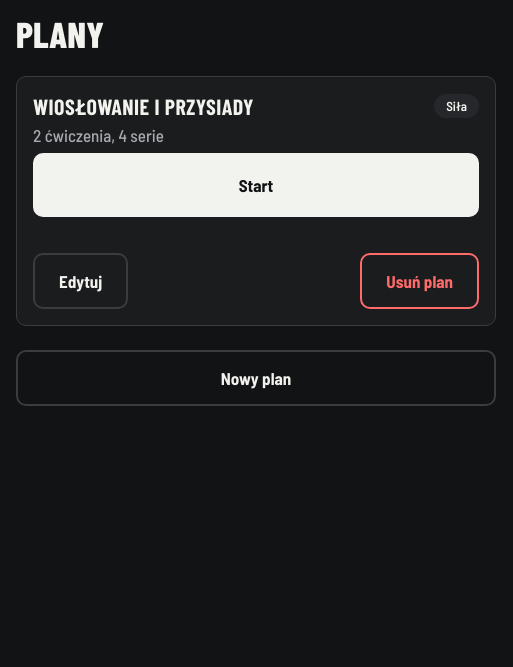
Test: "Zakończ trening" › is also on the rest view, with "Gotowy, zaczynam" as the only primary button
Click the button "Start" at (256, 185), box [33, 153, 479, 217]
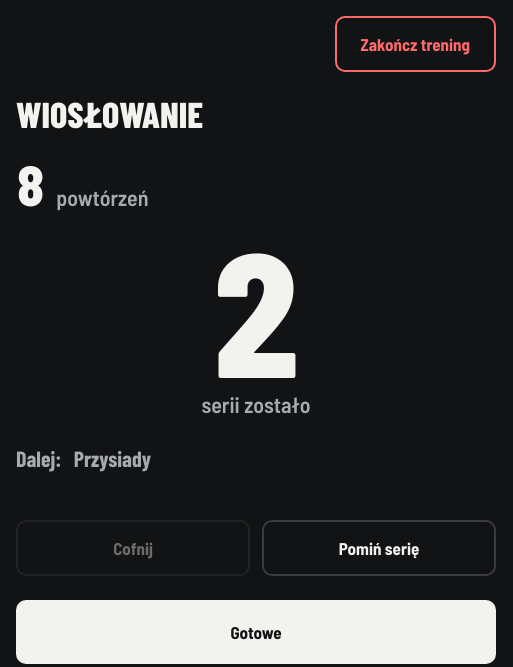
Click the button "Gotowe" at (256, 632), box [16, 600, 496, 664]
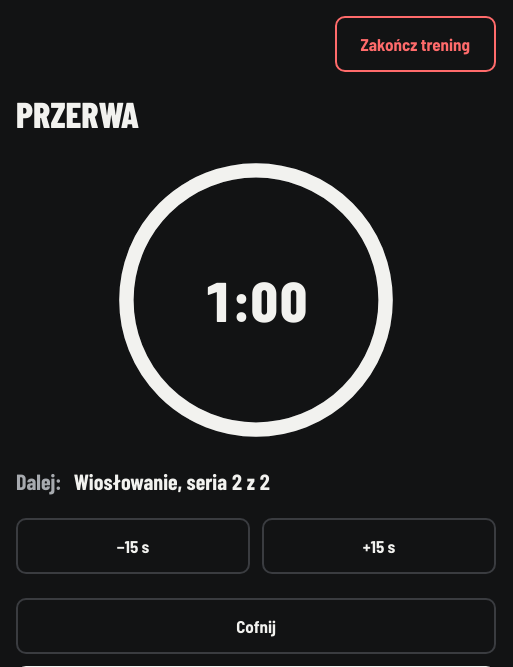
Check: the heading "Przerwa" is shown, box [16, 92, 139, 135]
